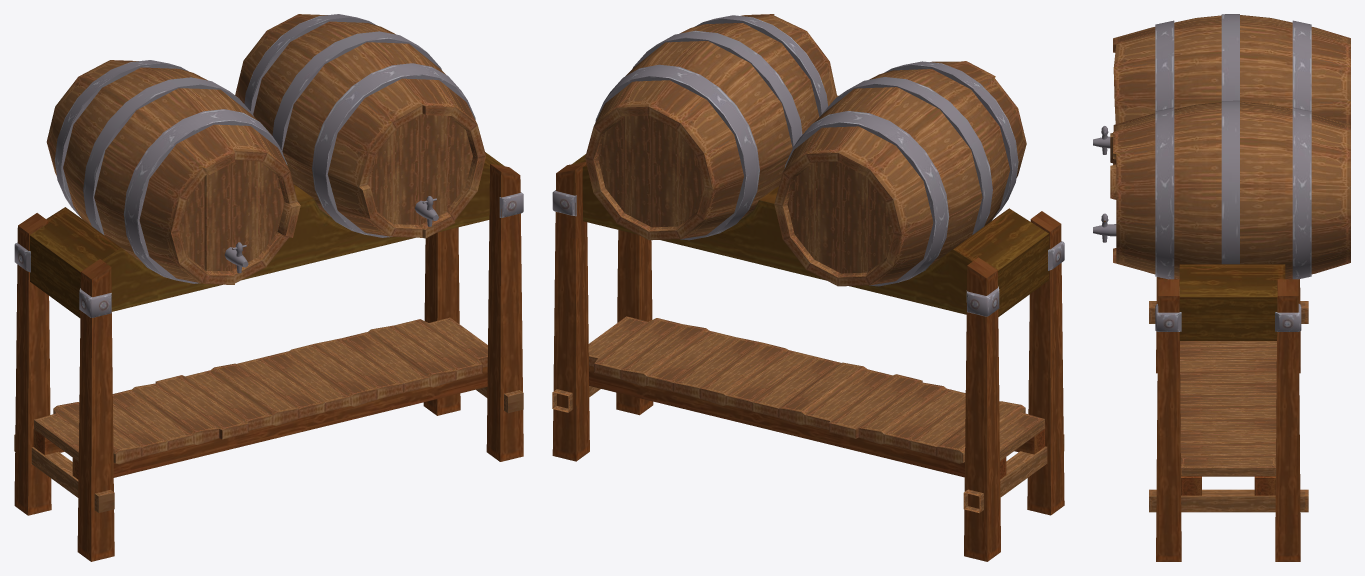
File: barrel_rack.glb
The picture shows the model from 3 angles, left to right: view 1: azimuth 30°, elevation 25°; view 2: azimuth 150°, elevation 25°; view 3: azimuth 270°, elevation 25°; orthographic projection. The views are drawn at different scales.
Parts seen in each view (by area): view 1: Barrel_Holder; view 2: Barrel_Holder; view 3: Barrel_Holder.
Boxes of the visible parts, box(x1,y1,x2,y2) form: Barrel_Holder: box(14, 14, 523, 561); Barrel_Holder: box(552, 14, 1064, 561); Barrel_Holder: box(1093, 14, 1350, 561).
Size of the model in its own units: 1.36 by 1.26 by 0.741.
2 materials, 2 textured.
